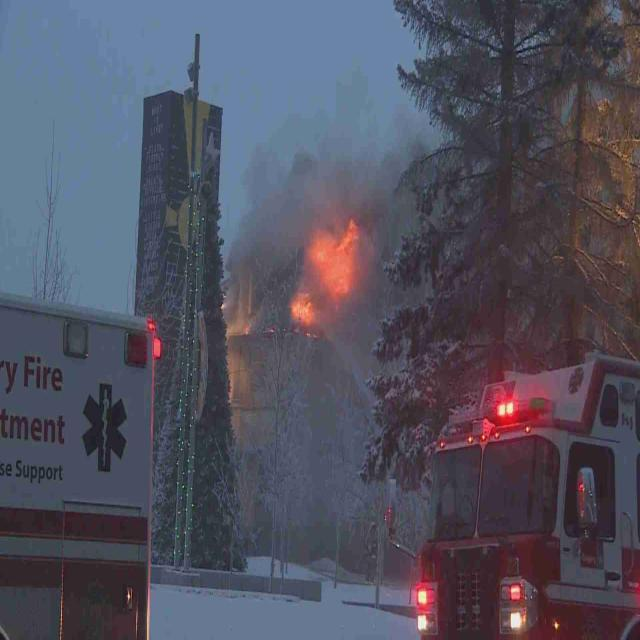Fire: (291, 217, 358, 331)
Smoke: (232, 70, 426, 205)
